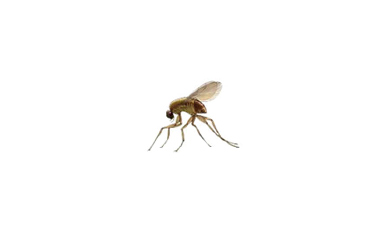phorid fly: (138, 73, 255, 158)
